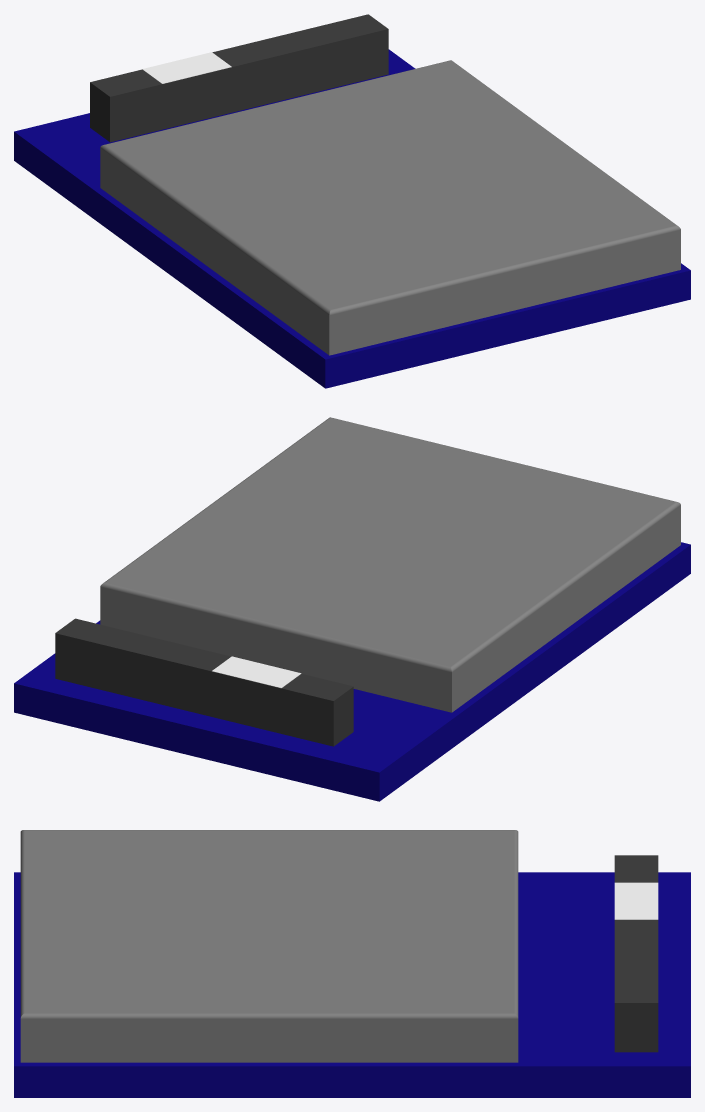
Rendered from RF_Module__Raytac_MDBT50Q.glb.
3 renders of one model, top to bottom at view 1: azimuth 30°, elevation 25°; view 2: azimuth 150°, elevation 25°; view 3: azimuth 270°, elevation 25°, orthographic. The views are drawn at different scales.
Visible parts, largest first — view 1: Raytac_MDBT50Q; view 2: Raytac_MDBT50Q; view 3: Raytac_MDBT50Q.
Part boxes in pixels (bbox=[...]): Raytac_MDBT50Q: bbox=[14, 14, 690, 388]; Raytac_MDBT50Q: bbox=[14, 417, 690, 801]; Raytac_MDBT50Q: bbox=[14, 830, 690, 1097].
Bounding box in the file's own units: 0.0105 × 0.00206 × 0.0155.
